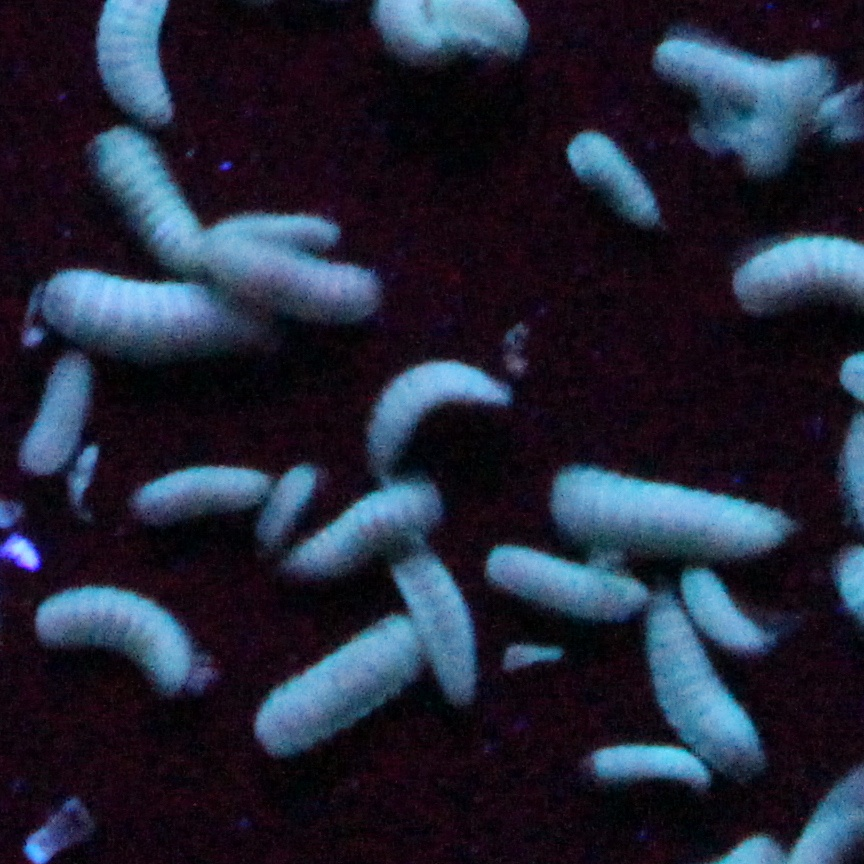larve: (543, 462, 783, 569), (643, 596, 763, 769), (656, 56, 850, 156), (36, 576, 190, 689), (263, 622, 410, 736), (216, 229, 390, 322), (96, 122, 196, 276), (50, 276, 256, 349), (303, 476, 450, 576), (475, 537, 646, 620), (410, 562, 490, 702), (570, 136, 670, 236), (370, 369, 490, 449), (136, 462, 270, 529), (682, 572, 785, 659), (10, 369, 90, 462)
